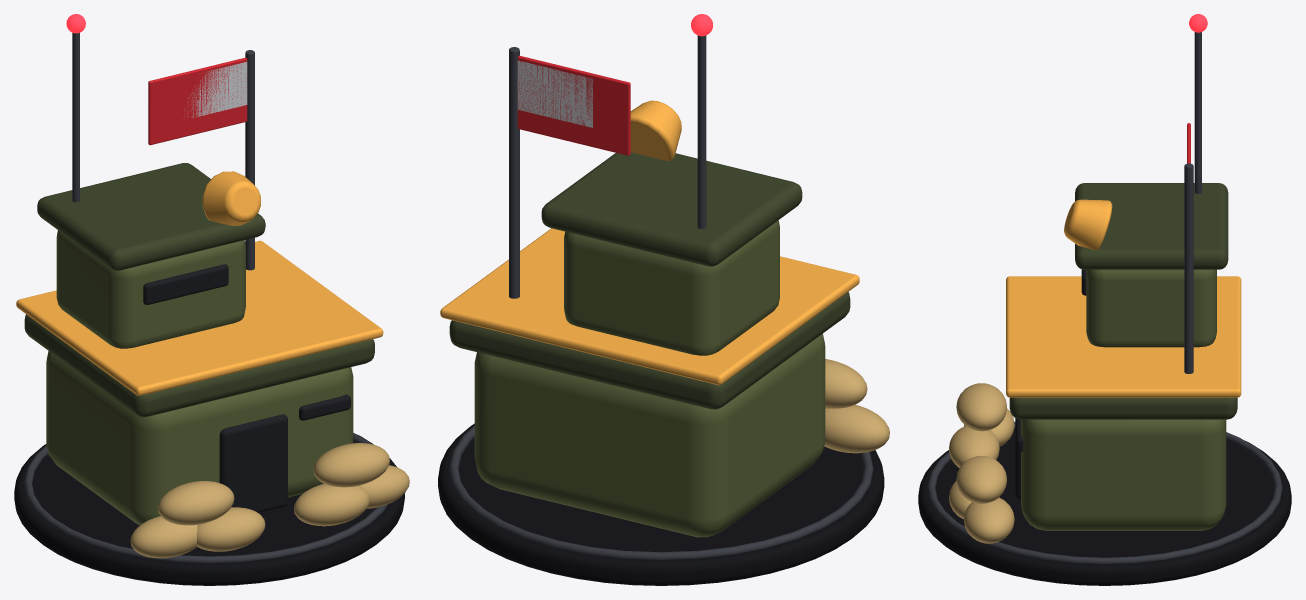
The model's file is kaserne.glb.
The picture shows the model from 3 angles, left to right: view 1: azimuth 30°, elevation 25°; view 2: azimuth 150°, elevation 25°; view 3: azimuth 270°, elevation 25°; orthographic projection. The views are drawn at different scales.
Visible parts, largest first — view 1: hus_net, op2_net, op4_net, fod_net, op1_net, op3.001_net, ned3_net, op3_net; view 2: hus_net, op2_net, fod_net, op4_net, op3.001_net, ned3_net, op3_net; view 3: hus_net, fod_net, op4_net, op2_net, op1_net, op3_net.
Boxes of the visible parts, box(x1,y1,x2,y2) form: hus_net: box(24, 50, 374, 558); op2_net: box(37, 163, 265, 348); op4_net: box(16, 171, 383, 395); fod_net: box(14, 433, 404, 585); op1_net: box(294, 443, 409, 526); op3.001_net: box(148, 57, 247, 145); ned3_net: box(184, 62, 247, 117); op3_net: box(66, 14, 85, 202); hus_net: box(449, 47, 889, 537); op2_net: box(541, 152, 802, 355); fod_net: box(438, 423, 884, 585); op4_net: box(440, 100, 859, 385); op3.001_net: box(517, 55, 630, 155); ned3_net: box(517, 60, 592, 127); op3_net: box(691, 14, 712, 229); hus_net: box(949, 163, 1237, 530); fod_net: box(918, 421, 1291, 585); op4_net: box(1006, 199, 1241, 397); op2_net: box(1075, 183, 1228, 347); op1_net: box(949, 455, 1014, 543); op3_net: box(1189, 14, 1207, 193).
Size of the model in its own units: 2 by 2.69 by 2.
